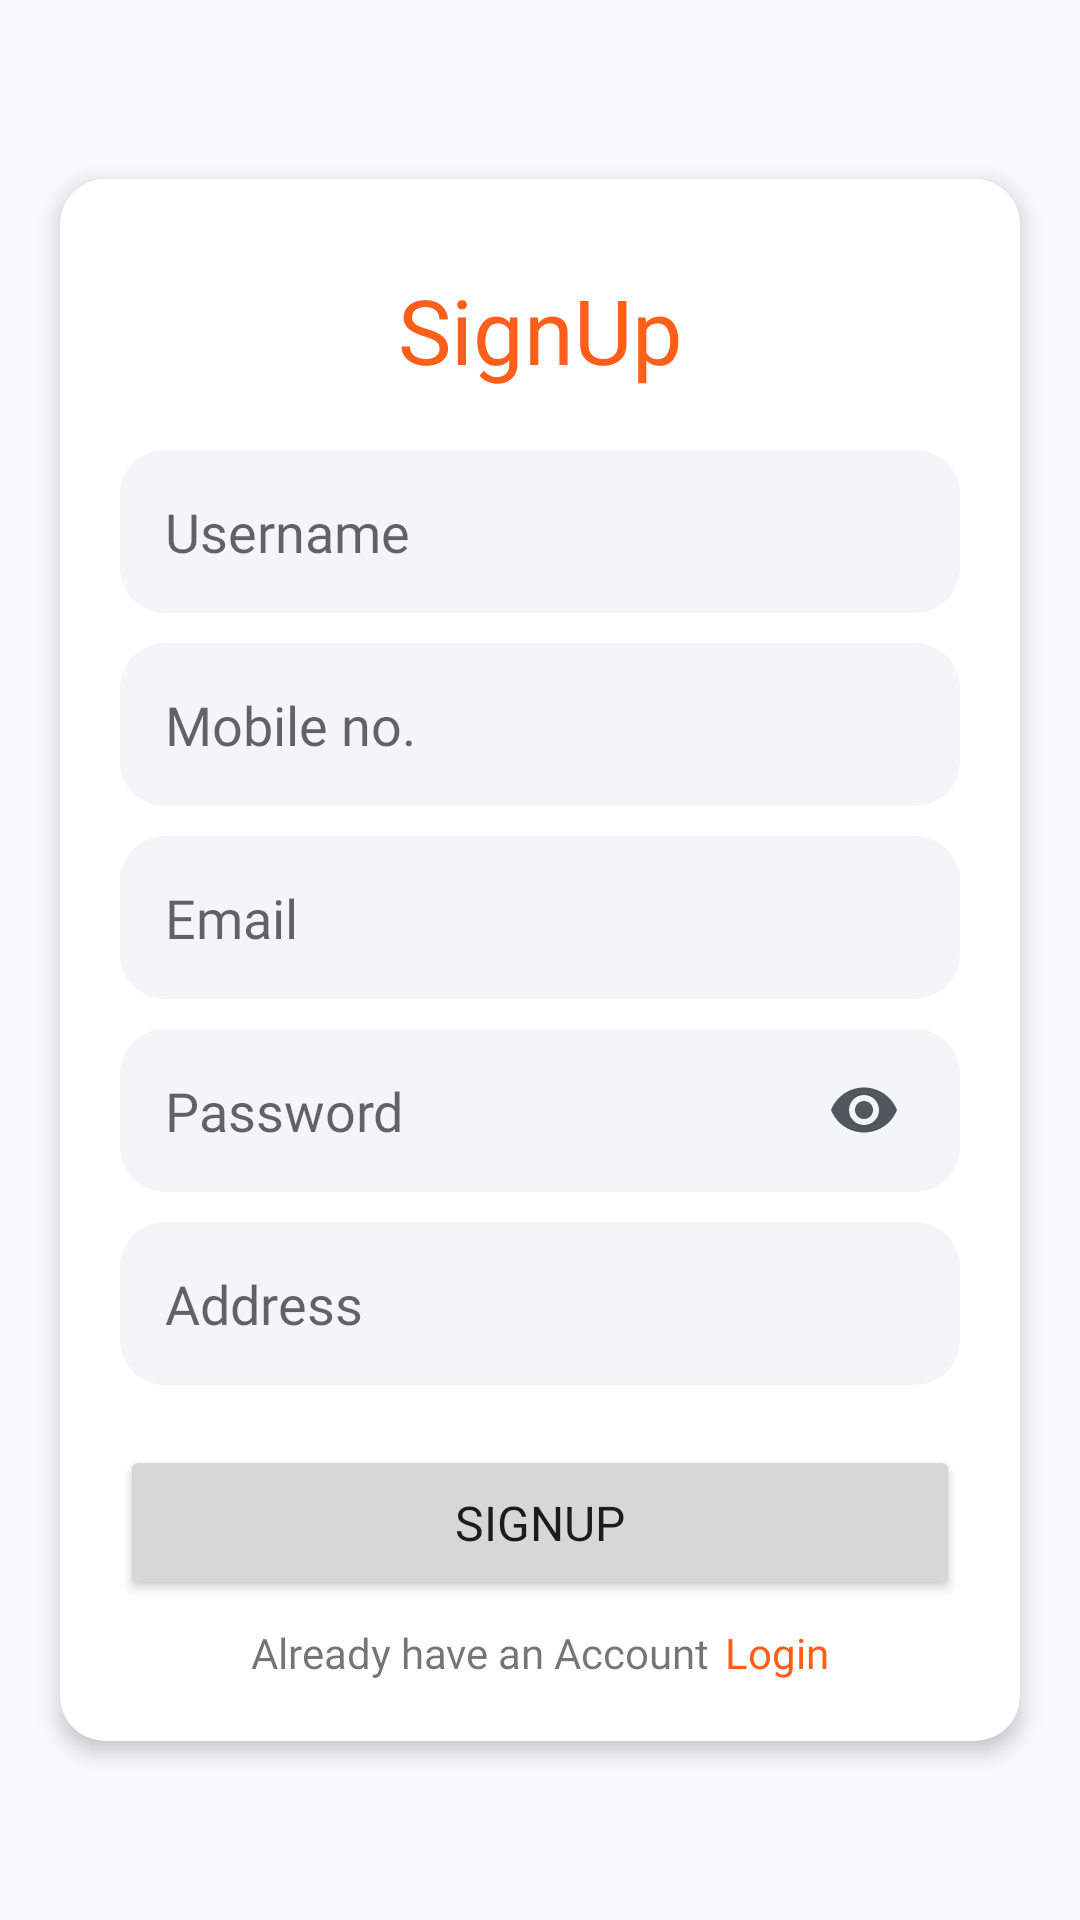

Where icons sit on this 1080x1920 app screen, as (x1=x1, y1=y1, x2=x2, y2=y2):
show: (x1=831, y1=1087, x2=897, y2=1133)
